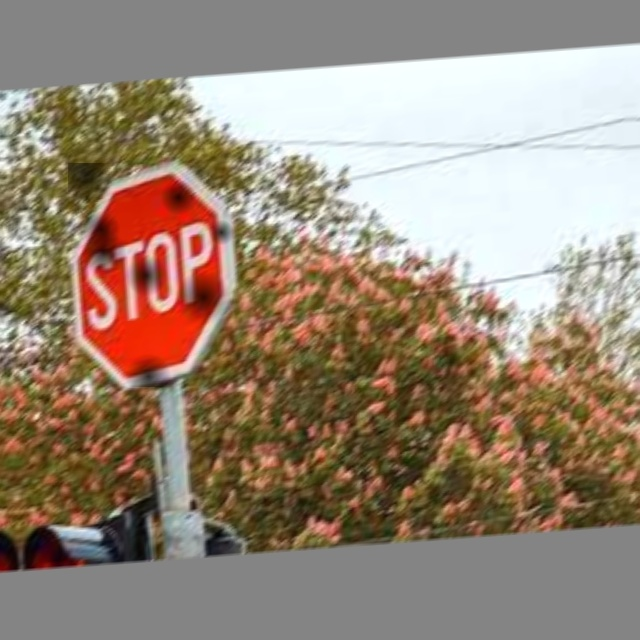Stop: (68, 163, 240, 387)
